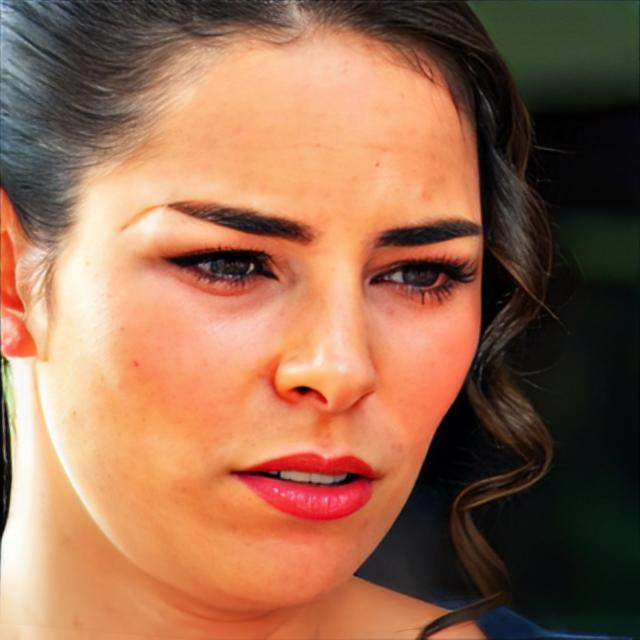disgust: (37, 19, 484, 616)
